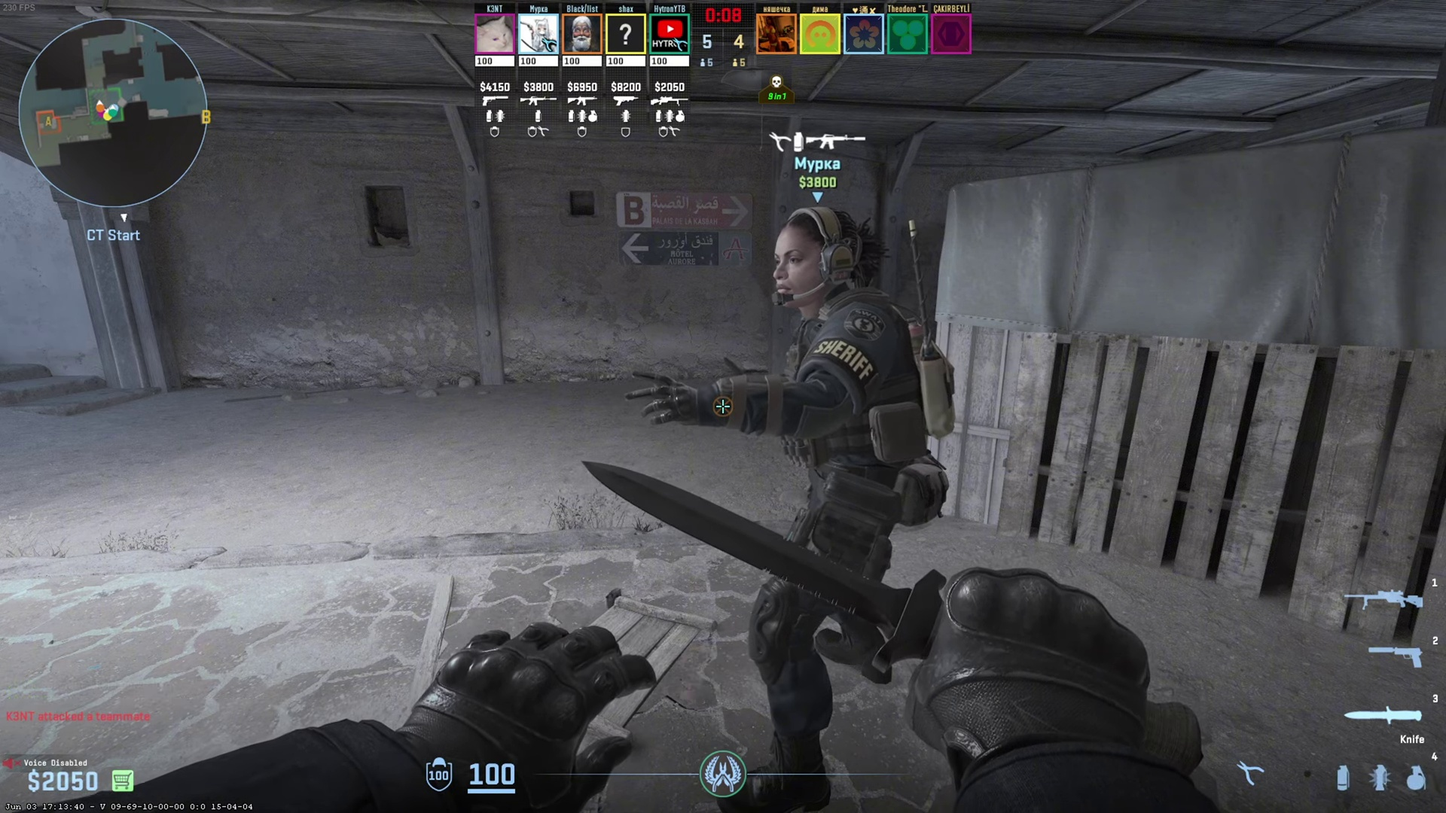CT: (751, 205, 911, 768)
